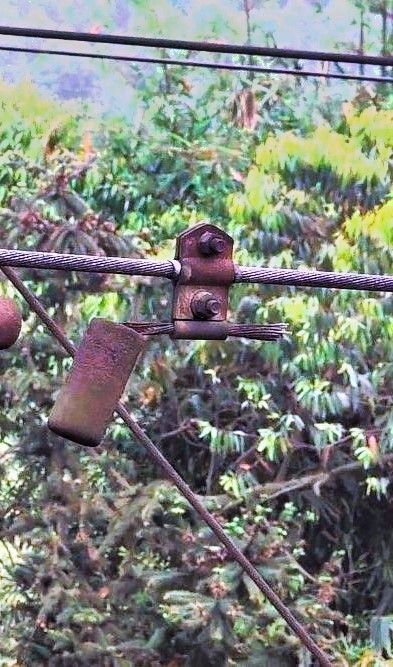Damage of shockproof hammer: (38, 217, 296, 451)
